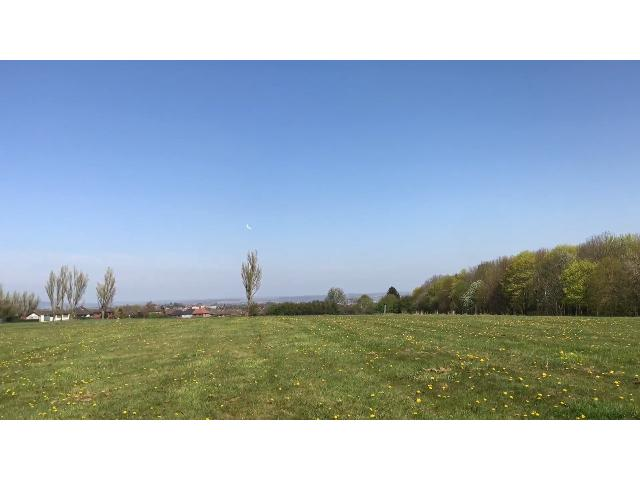Anti-Drone: (239, 223, 259, 235)
